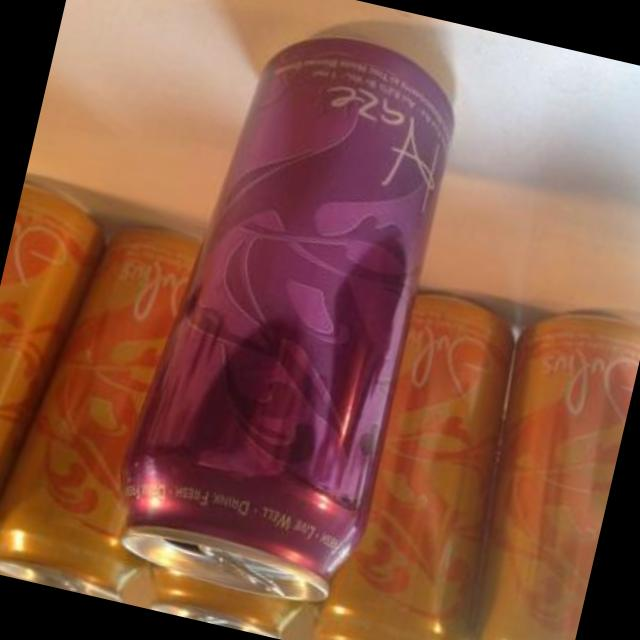metal: (125, 43, 454, 603), (0, 228, 199, 601), (317, 294, 514, 640), (474, 315, 640, 640), (0, 185, 100, 489)
